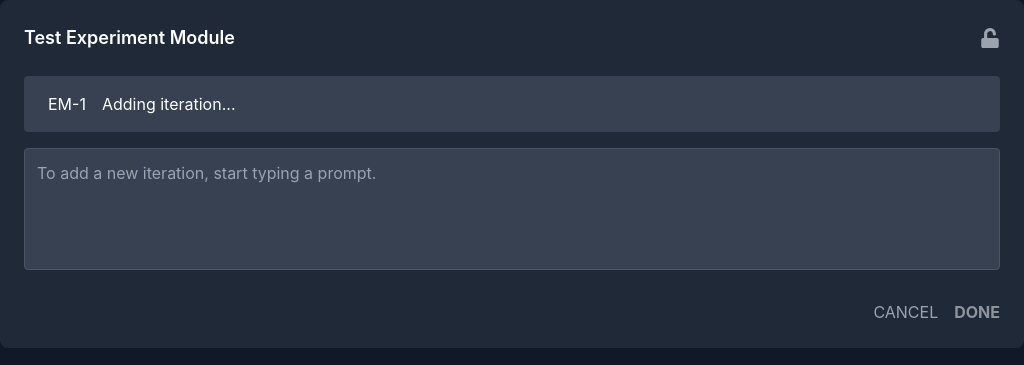
Test: ExperimentModule › allows resetting module
Type "Test iteration" into the text box with placeholder "To add a new iteration, start typing a prompt." at (512, 209), box left=24, top=148, right=1000, bottom=270
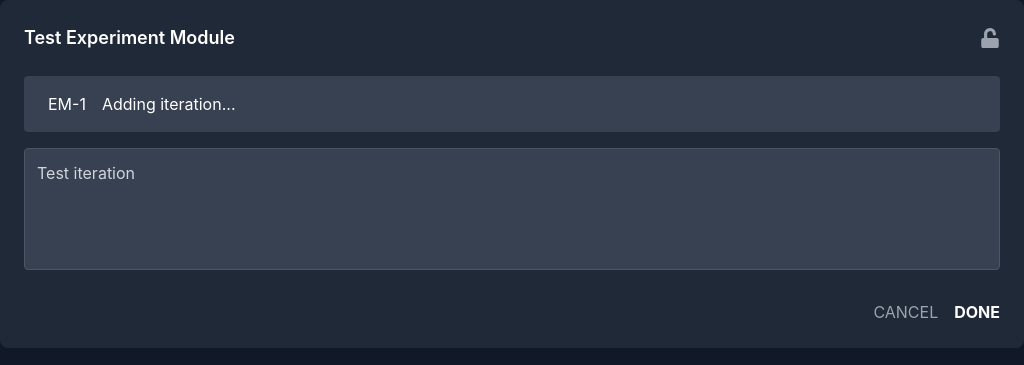
Click the button "DONE" at (977, 312), box left=954, top=300, right=1000, bottom=324
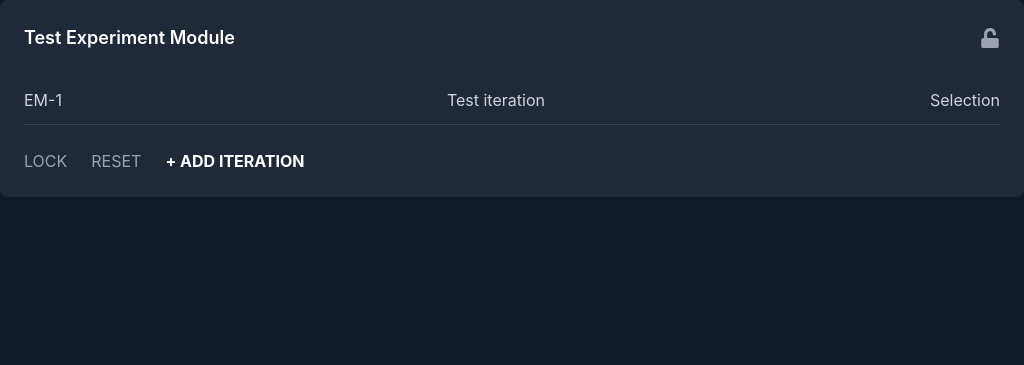
Click the button "RESET" at (116, 161), box left=91, top=149, right=141, bottom=173
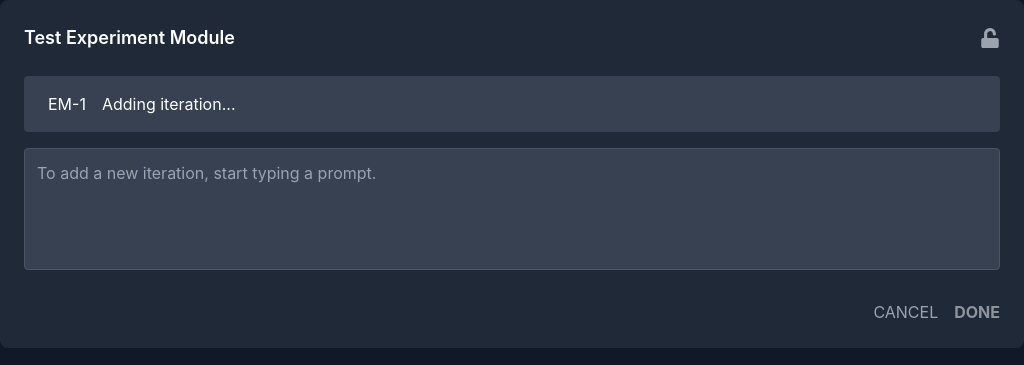
Expected: the text "Adding iteration..." is shown, left=102, top=92, right=235, bottom=116
